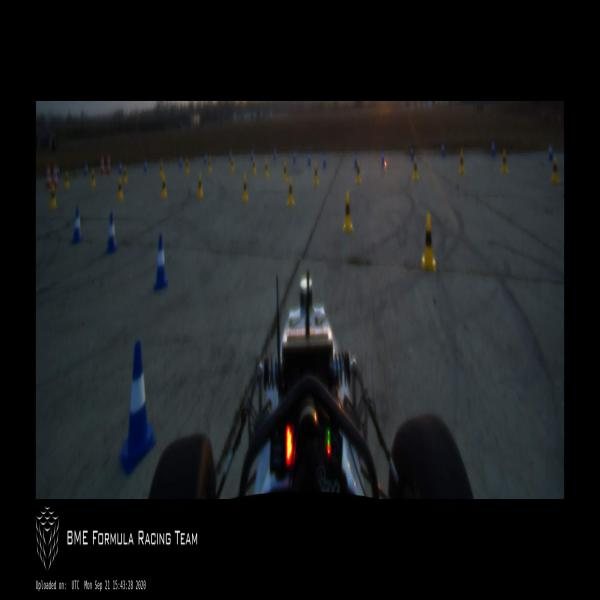blue_cone: (118, 342, 155, 474), (152, 236, 167, 290), (106, 212, 117, 252), (71, 208, 83, 242), (83, 159, 88, 176), (118, 160, 123, 174), (354, 151, 358, 168), (307, 150, 311, 167), (410, 144, 414, 160), (323, 150, 326, 170), (272, 146, 276, 160), (144, 158, 148, 172), (292, 150, 296, 163), (228, 148, 232, 161), (204, 150, 208, 163), (382, 149, 385, 165), (492, 142, 495, 155), (179, 155, 182, 166), (442, 140, 444, 156), (550, 146, 552, 160)
large_orange_cone: (45, 162, 51, 190), (53, 163, 58, 189), (100, 152, 105, 178), (106, 153, 111, 176)
yellow_cone: (422, 214, 437, 271), (342, 193, 353, 234), (550, 154, 560, 186), (287, 179, 295, 206), (50, 183, 58, 209), (501, 149, 509, 174), (242, 175, 248, 203), (197, 172, 203, 200), (117, 177, 124, 201), (459, 152, 465, 178), (313, 164, 319, 188), (161, 178, 167, 200), (356, 162, 362, 184), (412, 158, 418, 180), (282, 162, 288, 182), (90, 169, 96, 189), (64, 170, 70, 189), (264, 159, 269, 179), (230, 156, 235, 174), (159, 160, 164, 178), (252, 156, 256, 176), (123, 167, 127, 185), (208, 156, 212, 173), (185, 159, 189, 174)
